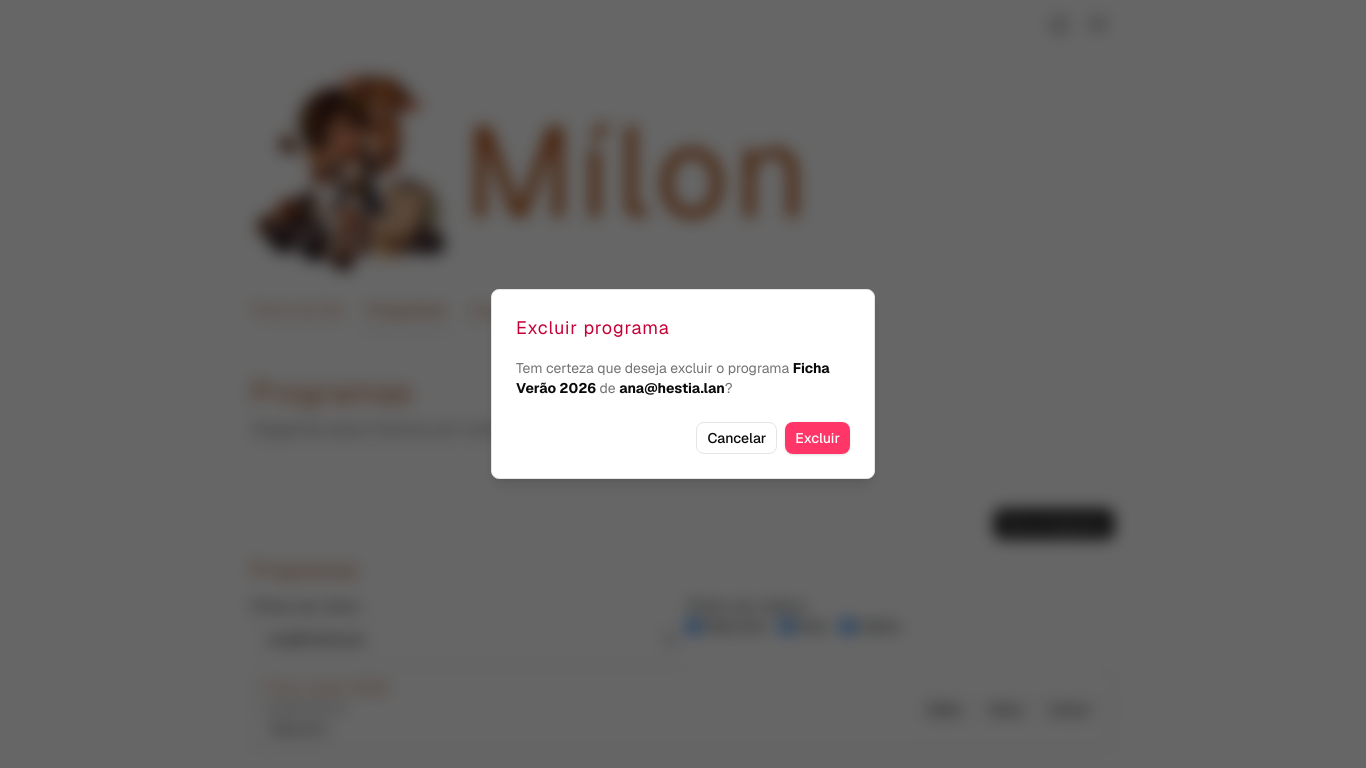
Test: Página /milon/programs — Programas (Mílon #2, TASK-010) › cancelar a confirmação vinda do hook não executa nada e fecha o modal
Click the button "Cancelar": click(737, 438) [696,422,777,454]
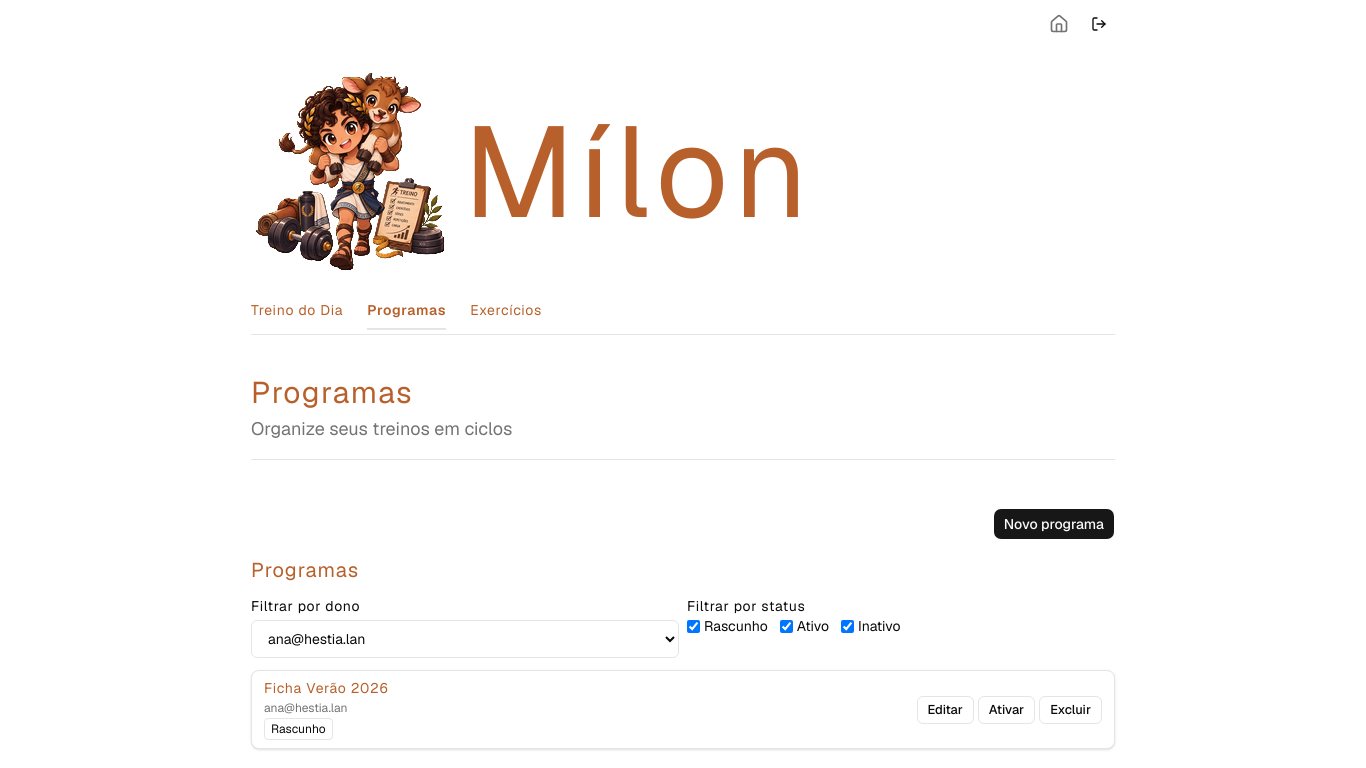
Expected: the heading "Excluir programa" is gone
